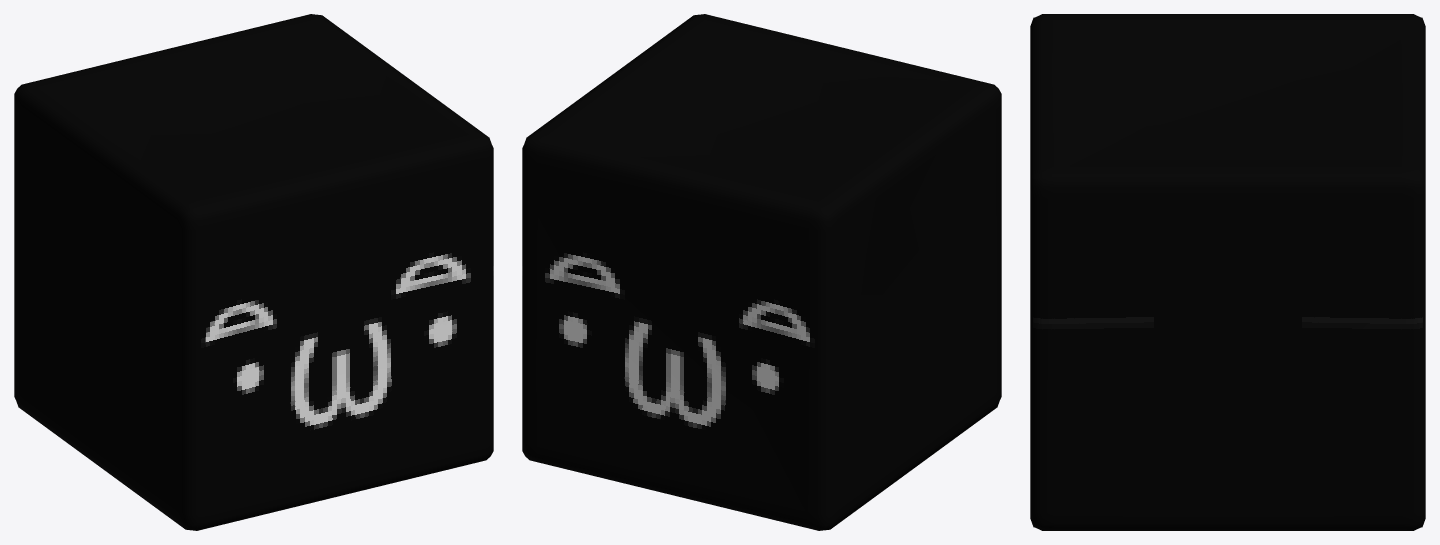
3 views of the same model, side by side, from view 1: azimuth 30°, elevation 25°; view 2: azimuth 150°, elevation 25°; view 3: azimuth 270°, elevation 25° (orthographic). The views are drawn at different scales.
Parts seen in each view (by area): view 1: 立方体; view 2: 立方体; view 3: 立方体.
Part boxes in pixels (x1,y1,x2,y2): 立方体: (14,14,493,530); 立方体: (522,14,1001,530); 立方体: (1030,14,1425,530).
Bounding box in the file's own units: 1 × 1 × 1.
1 material, 1 textured.
